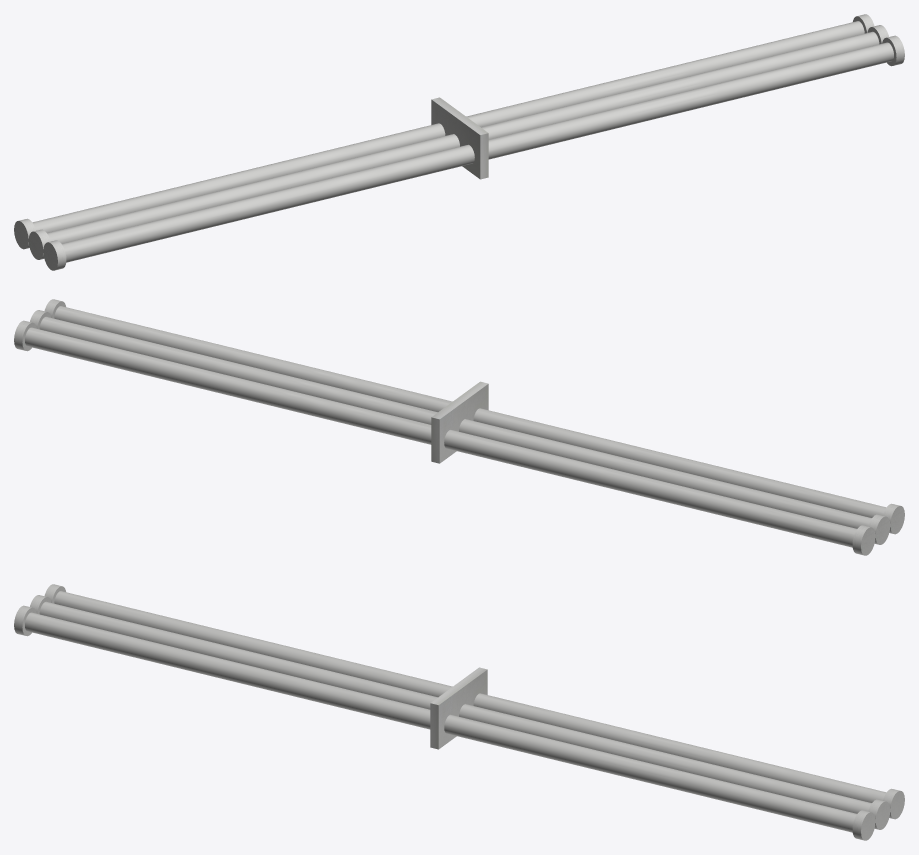
Rendered from Conduit.fbx.
3 views of the same model, one above another, from view 1: azimuth 30°, elevation 25°; view 2: azimuth 150°, elevation 25°; view 3: azimuth 330°, elevation 25° (orthographic).
Parts seen in each view (by area): view 1: Conduits; view 2: Conduits; view 3: Conduits.
Boxes of the visible parts, x1,y1,x2,y2 form: Conduits: [14, 14, 904, 270]; Conduits: [14, 299, 904, 555]; Conduits: [14, 584, 904, 840].
Size of the model in its own units: 5 by 0.25 by 0.5.
Materials: 1 (1 with a texture image).
